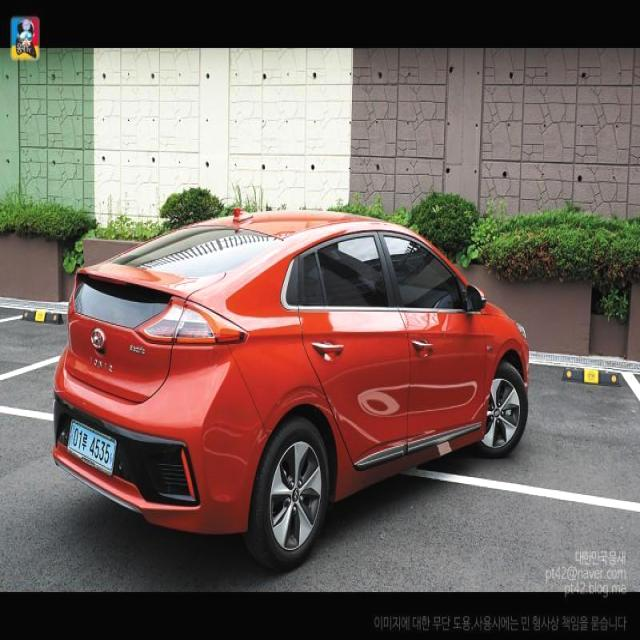EV_plate: (67, 417, 119, 479)
car: (48, 199, 534, 572)
